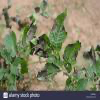Potato leaf late blight: (49, 7, 67, 52), (36, 59, 59, 83), (30, 34, 52, 58), (63, 40, 81, 69), (82, 46, 99, 70), (73, 67, 86, 82), (64, 77, 74, 91)
